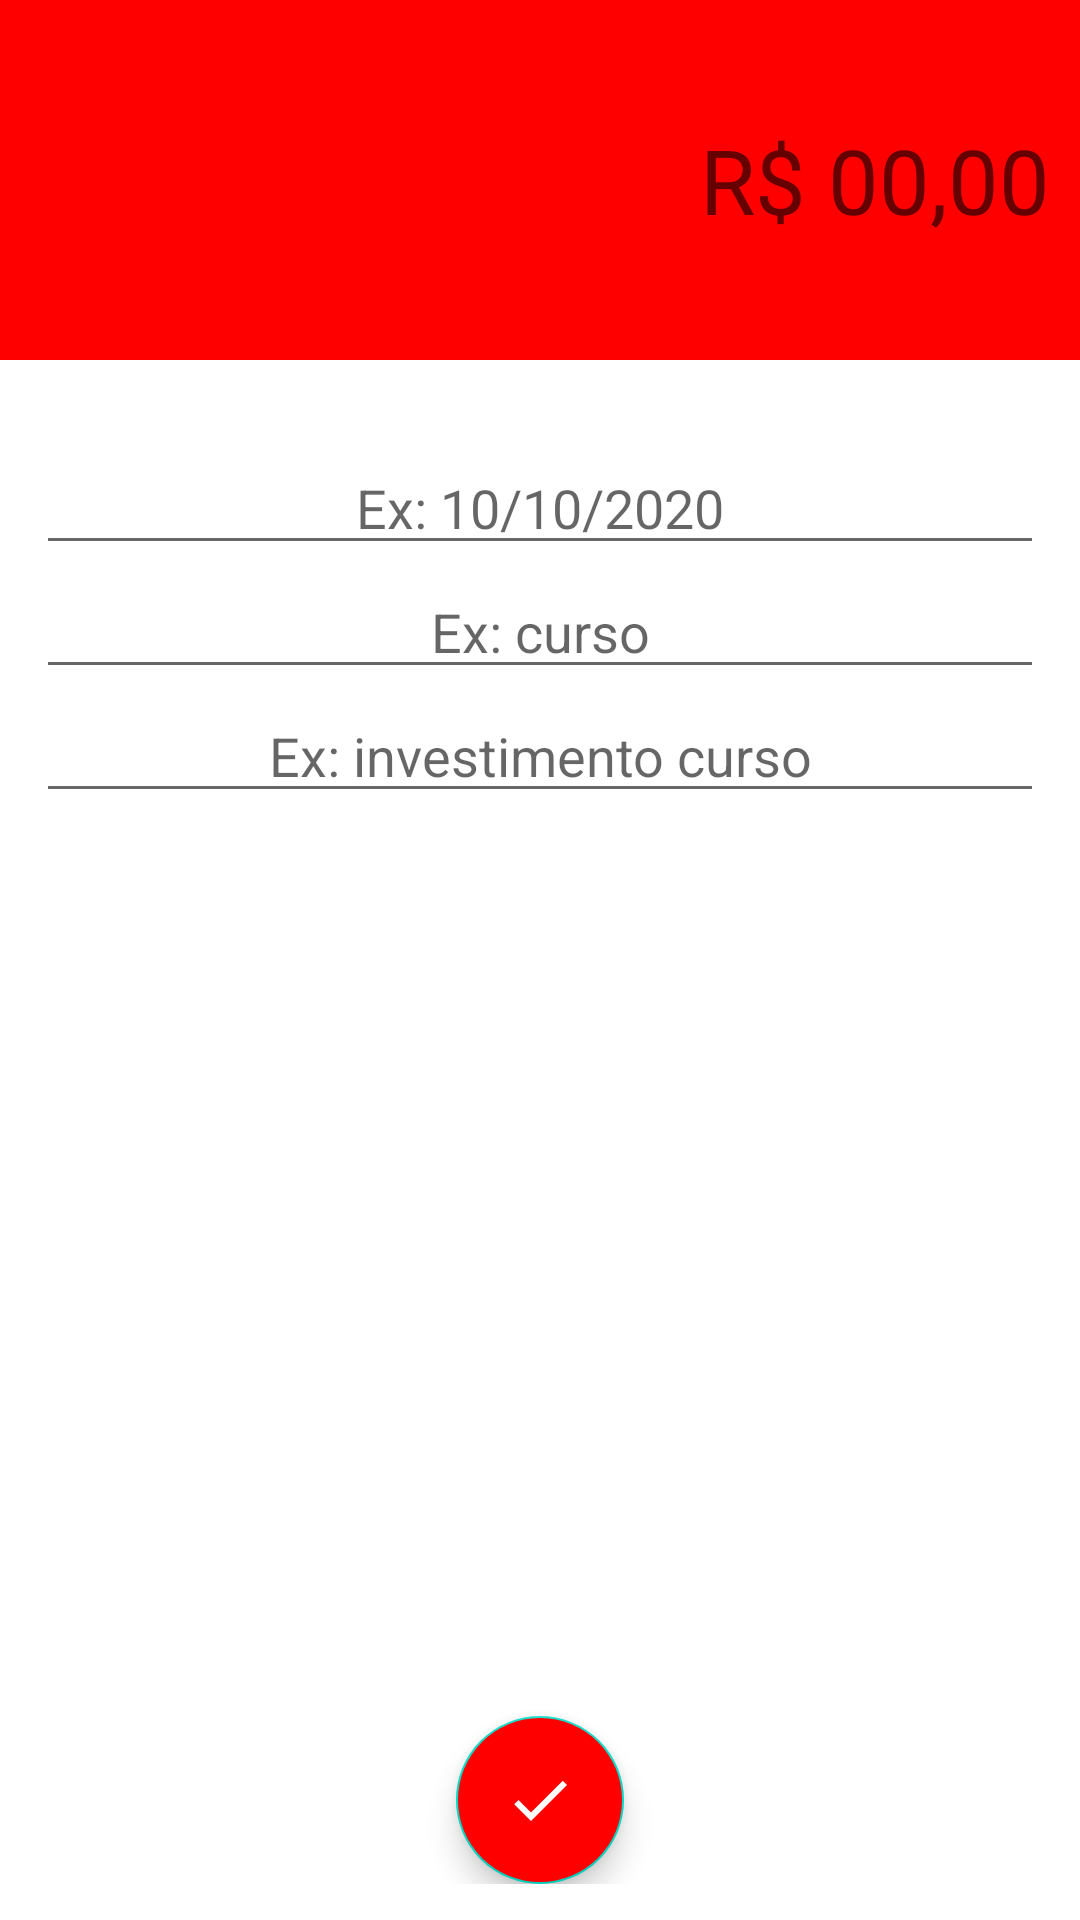

Icons on this 1080×1920 Android screen, each with its box as rect(x1, y1, x2, y2):
check: rect(456, 1716, 624, 1884)
